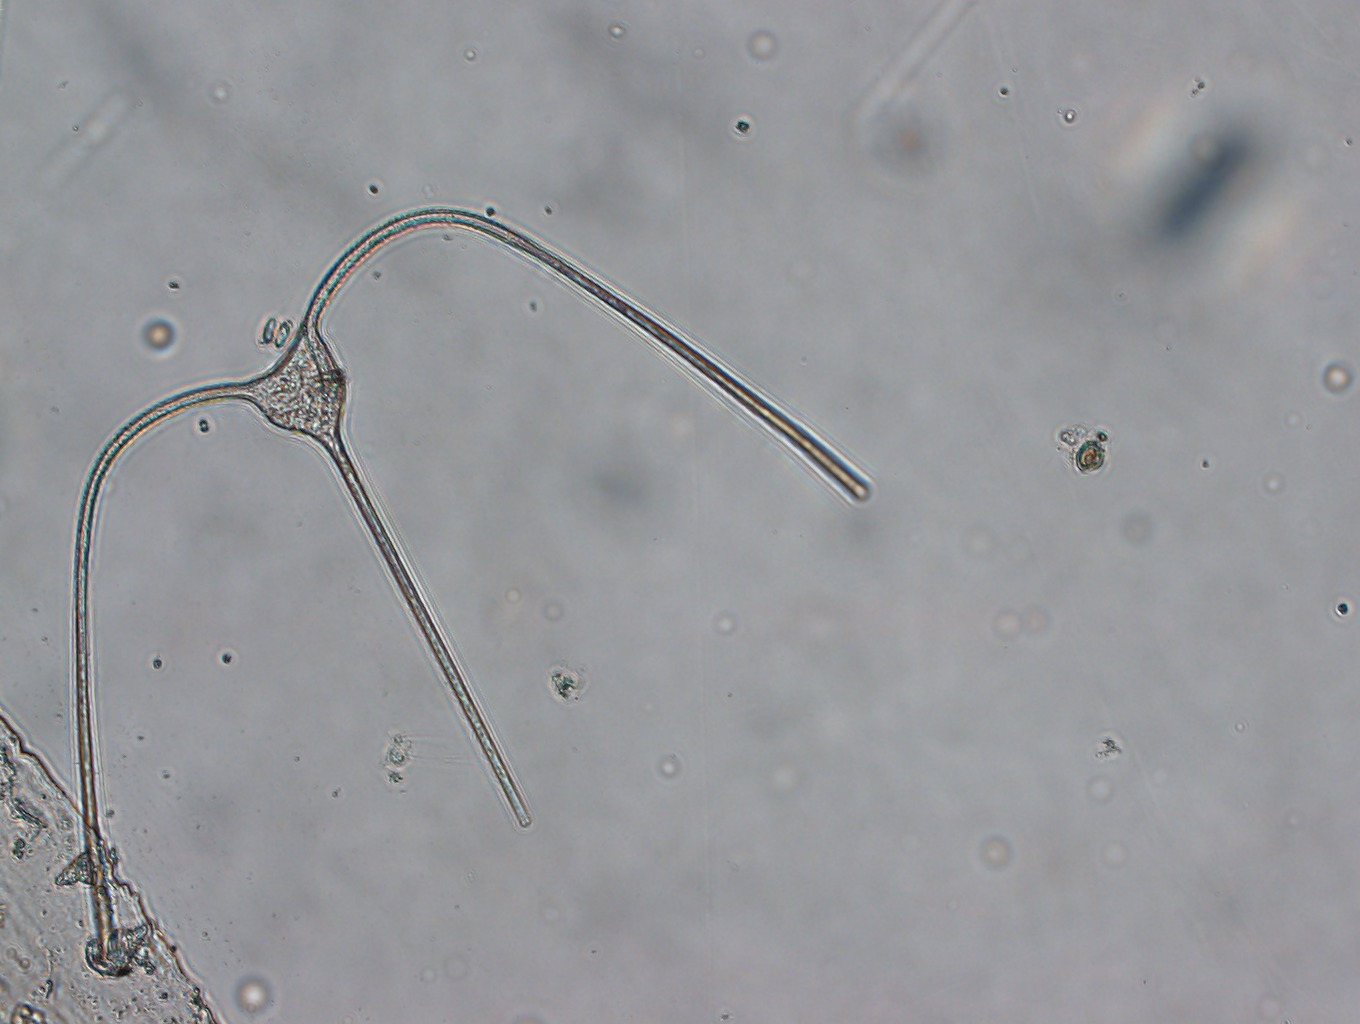ceratium trichoceros: (56, 191, 881, 977)
